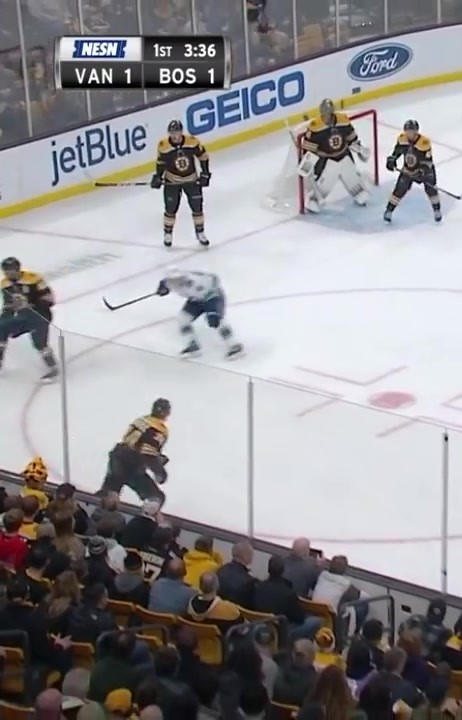Geico: (182, 74, 310, 143)
